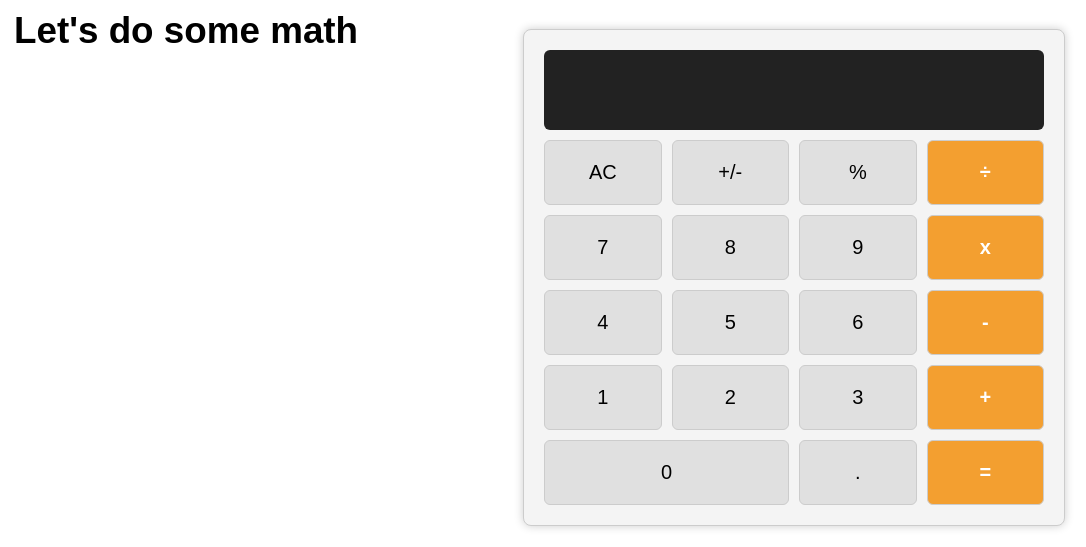
Calculator component › handles number button clicks and updates display
What coordinates should you click on to do the following:
click the button "1"
I would click on:
 (603, 398)
Its box is [544, 365, 662, 430].
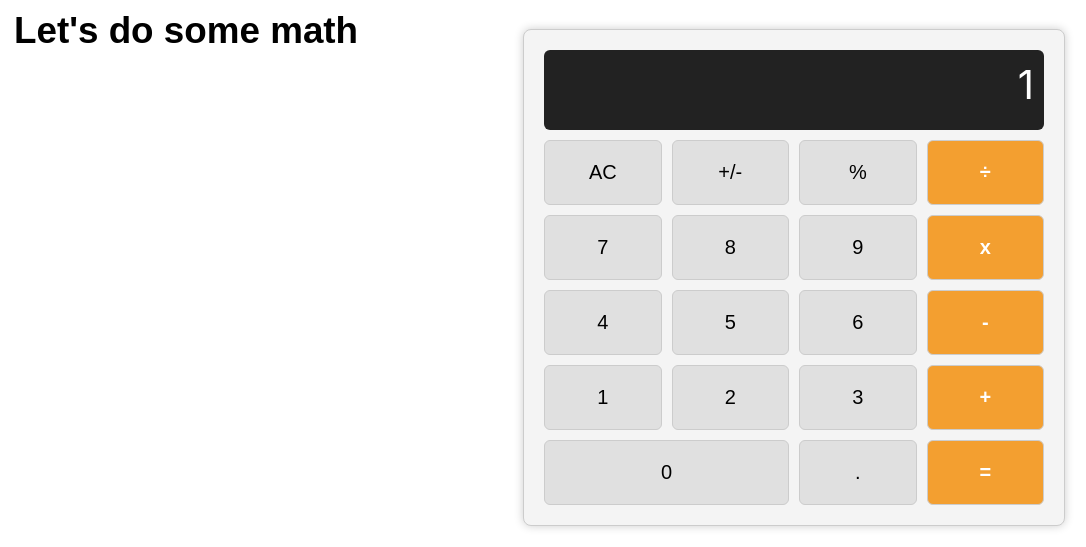
What coordinates should you click on to do the following:
click the button "2"
I would click on:
 (730, 398)
Its box is [672, 365, 789, 430].
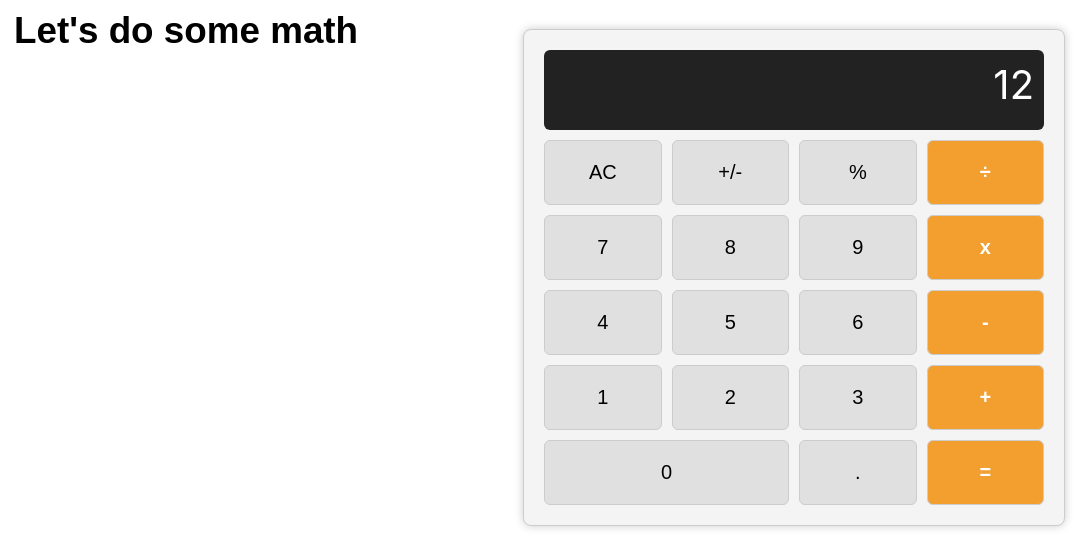
What coordinates should you click on to do the following:
click the button "3"
I would click on:
 (858, 398)
Its box is [799, 365, 916, 430].
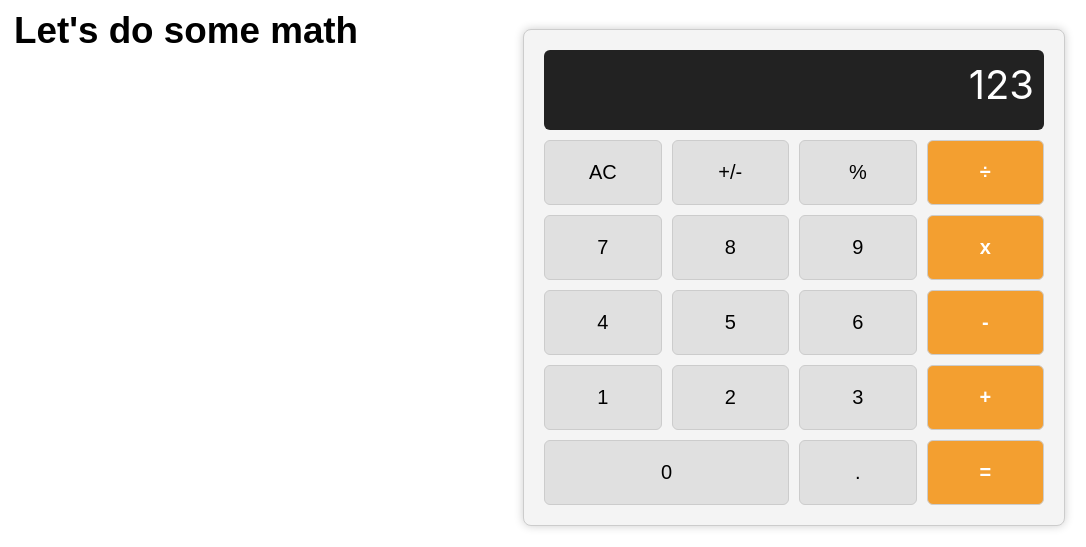
Expected: the text with test id "display" reads "123", [969, 60, 1034, 109]
